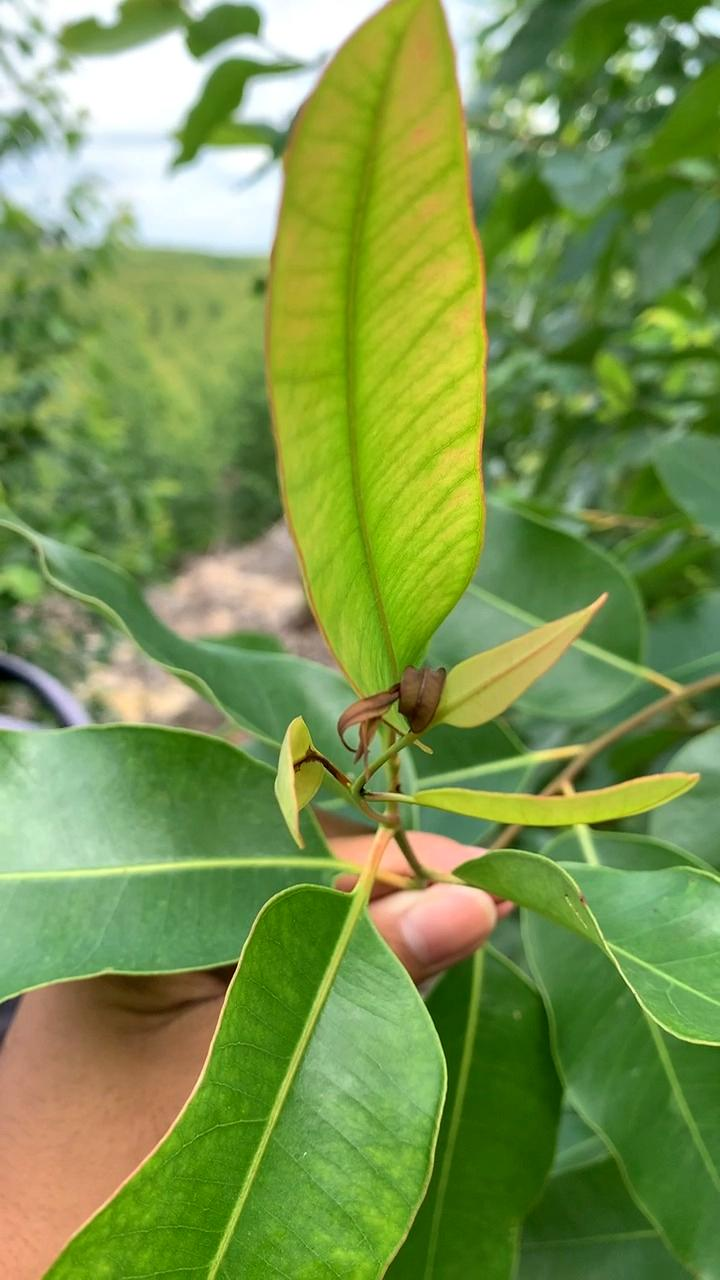Helopeltis-Withered Sprout: (325, 648, 465, 789)
